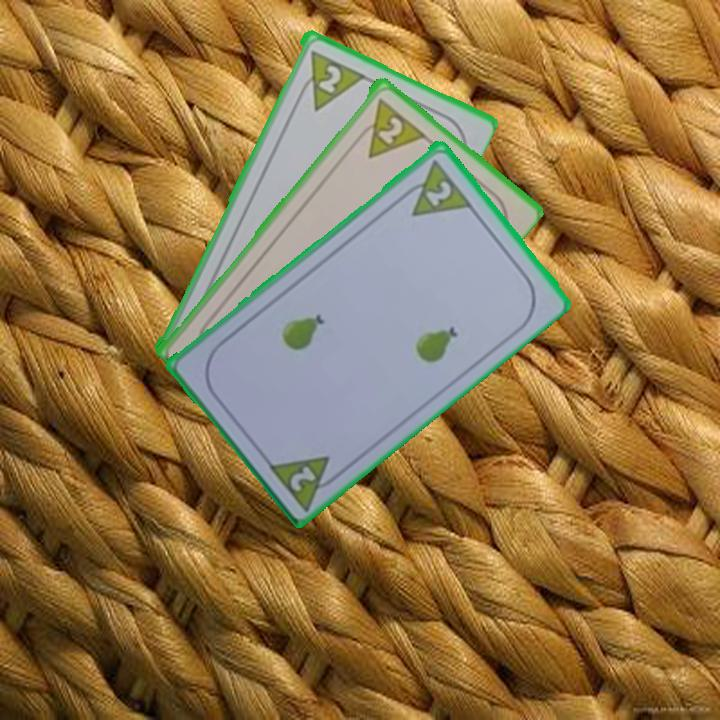2p: (395, 154, 474, 219), (351, 94, 427, 161), (292, 45, 366, 113), (264, 451, 346, 512)
